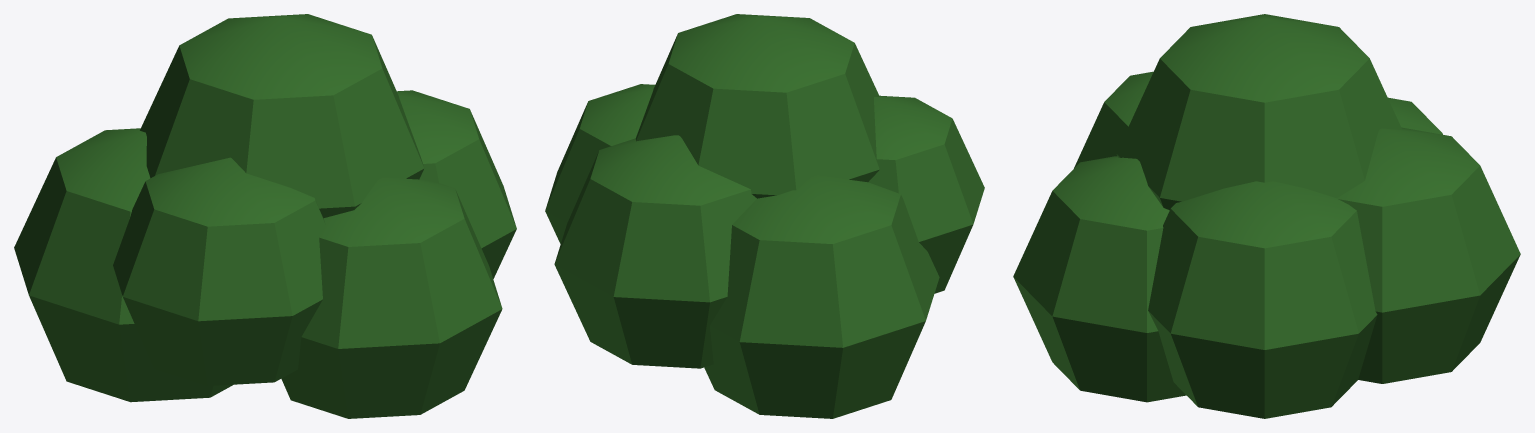
Rendered from landscape.shrub.size_2.glb.
3 views of the same model, side by side, from view 1: azimuth 30°, elevation 25°; view 2: azimuth 150°, elevation 25°; view 3: azimuth 270°, elevation 25° (orthographic). The views are drawn at different scales.
Parts seen in each view (by area): view 1: main__foliage; view 2: main__foliage; view 3: main__foliage.
Boxes of the visible parts, x1,y1,x2,y2 form: main__foliage: (14, 14, 516, 418); main__foliage: (545, 14, 984, 418); main__foliage: (1013, 14, 1520, 418).
Bounding box in the file's own units: 1.02 × 0.8612 × 1.03.
